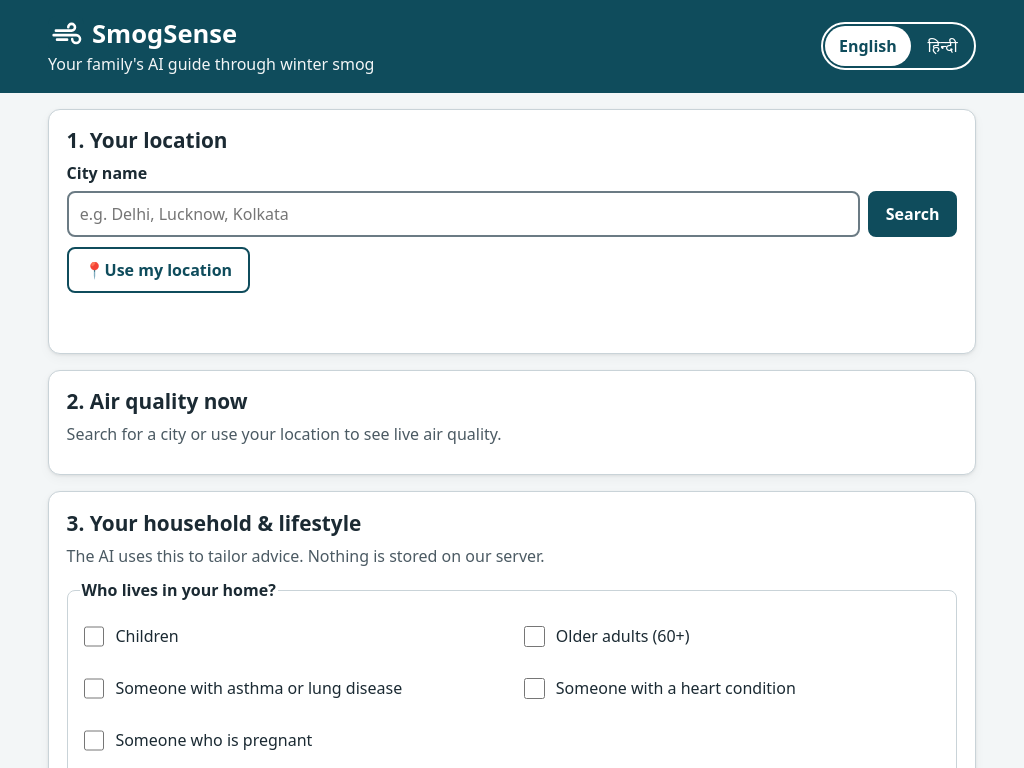
Test: App › remembers the household profile in this browser
Later steps or results of the test are not shown.
Type "Delhi" into the field labelled "City name".
click(463, 214); type("Delhi")  # box left=67, top=191, right=860, bottom=237
Then press Enter
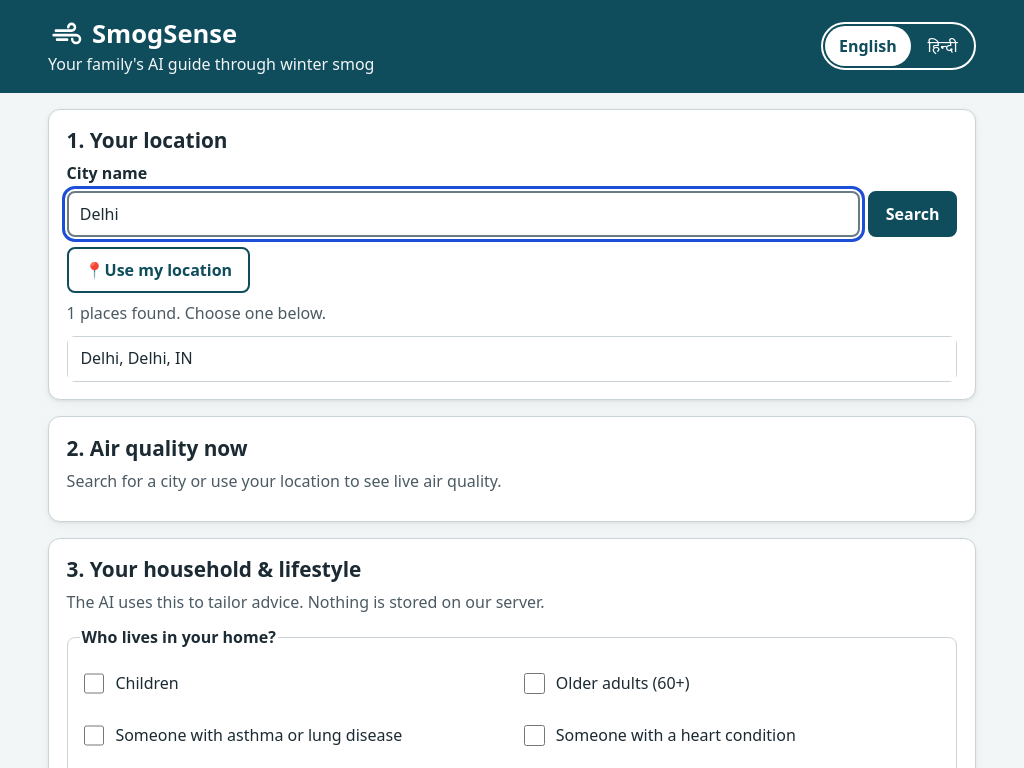
Click the button "Delhi, Delhi, IN".
click(136, 358)  # box left=68, top=337, right=956, bottom=381
(page scrolled)
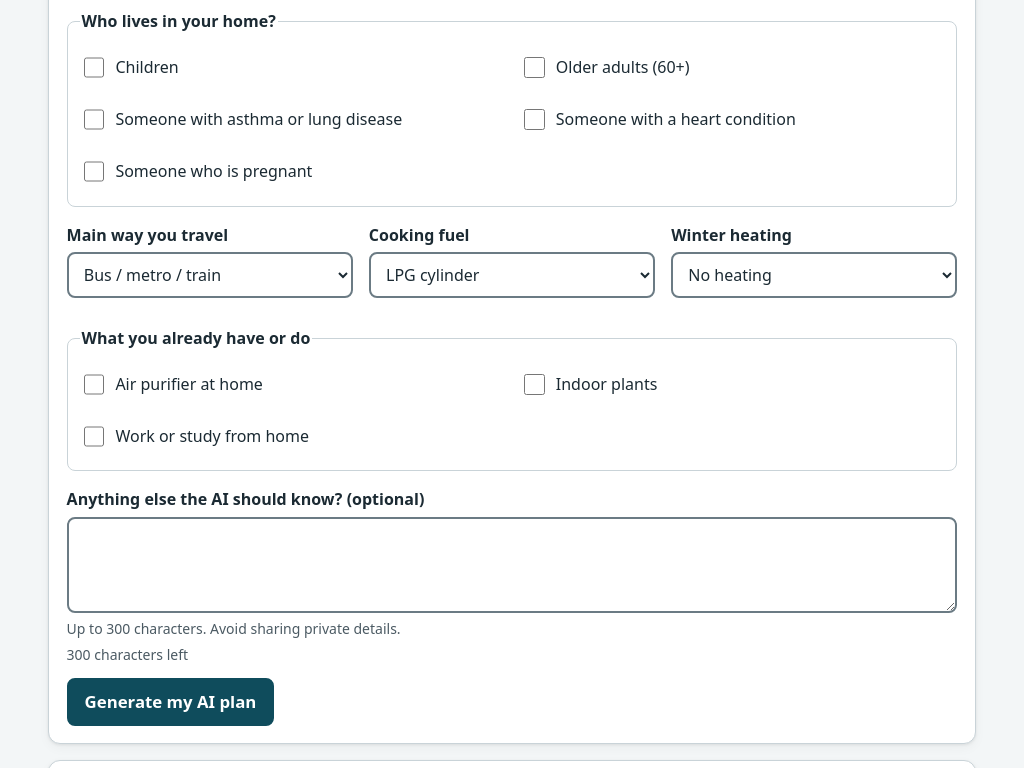
Click the checkbox labelled "Indoor plants".
click(534, 384)  # box left=524, top=374, right=545, bottom=395
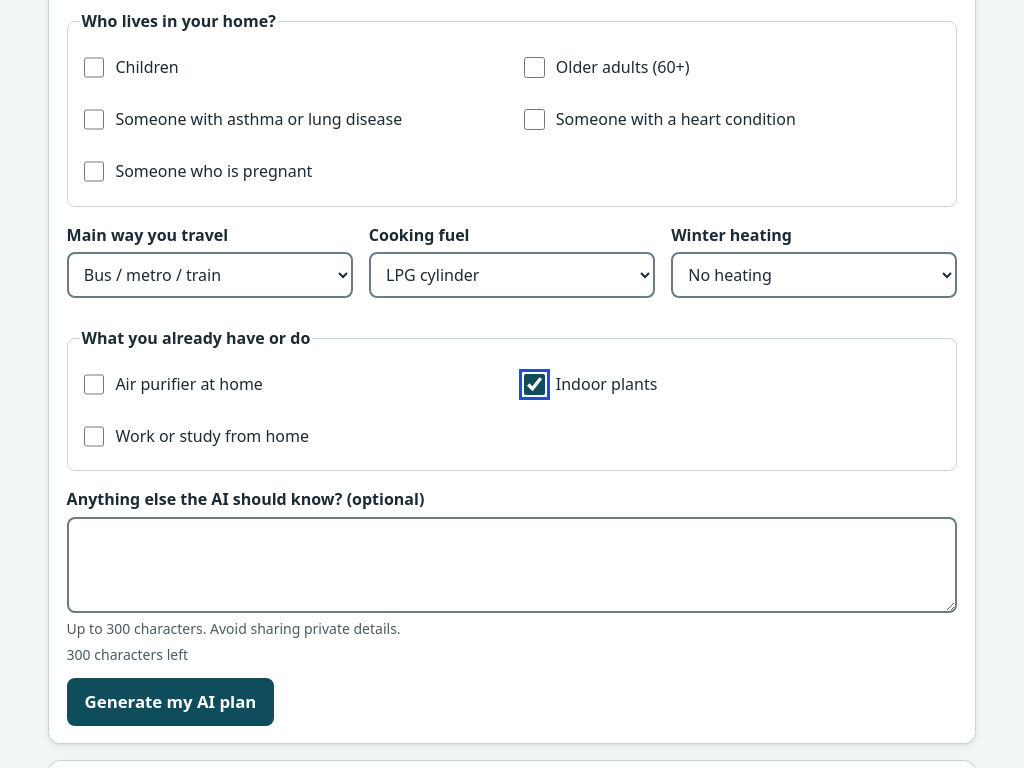
Click the button "Generate my AI plan".
click(170, 702)  # box left=67, top=678, right=274, bottom=726
(page scrolled)
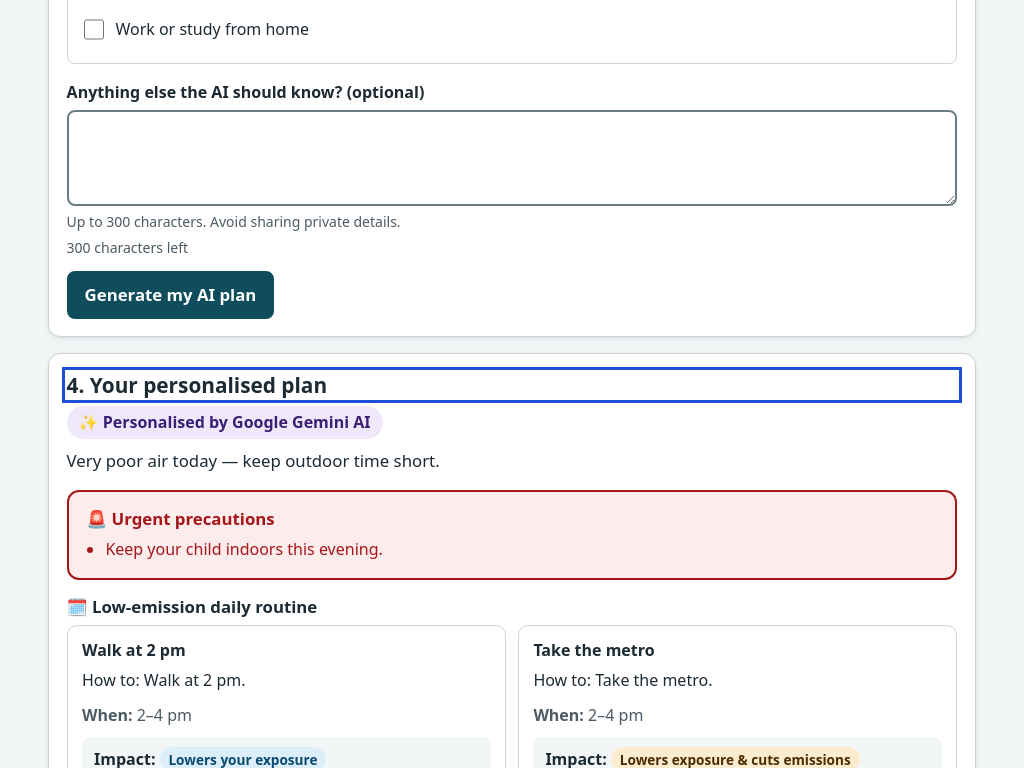
Expected: the text "Very poor air today — keep outdoor time short." is shown, left=67, top=449, right=440, bottom=472
